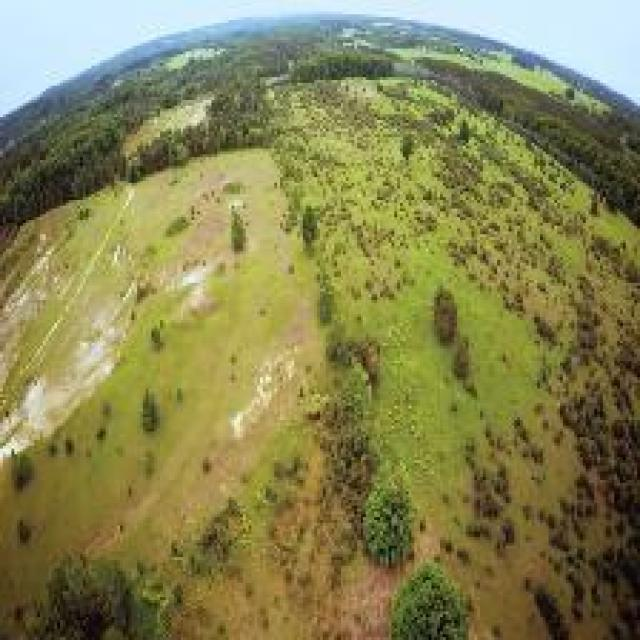other: (14, 305, 136, 427)
